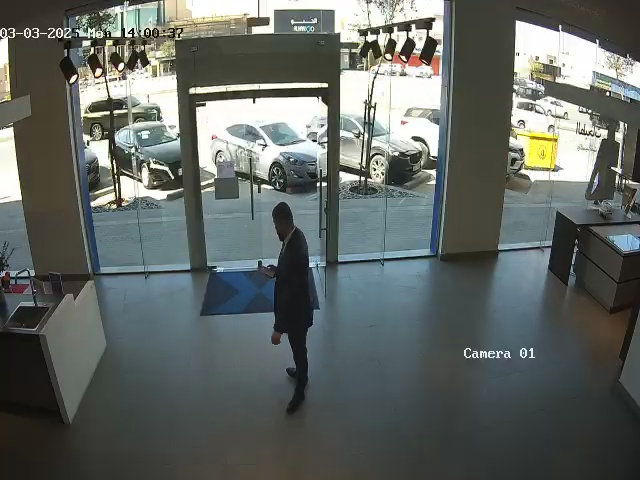employee: (259, 201, 319, 410)
